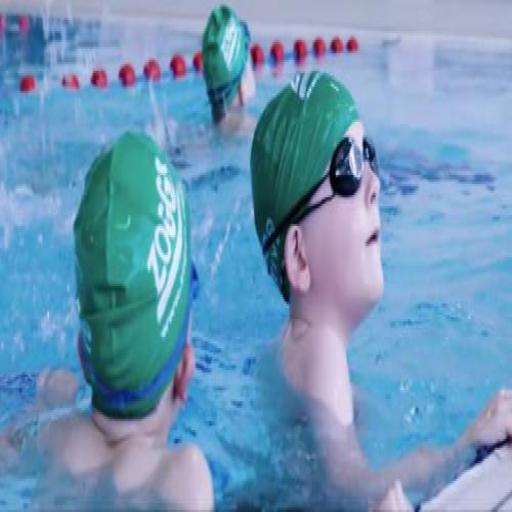swimming: (246, 64, 511, 510), (0, 126, 217, 510)
